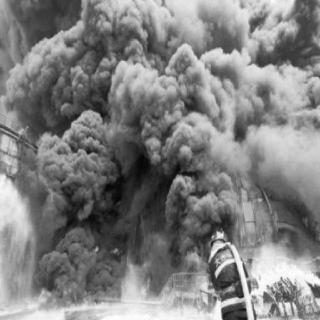Fire: (38, 245, 128, 307), (142, 242, 212, 312), (294, 197, 318, 245)
Smoke: (6, 4, 296, 234)
